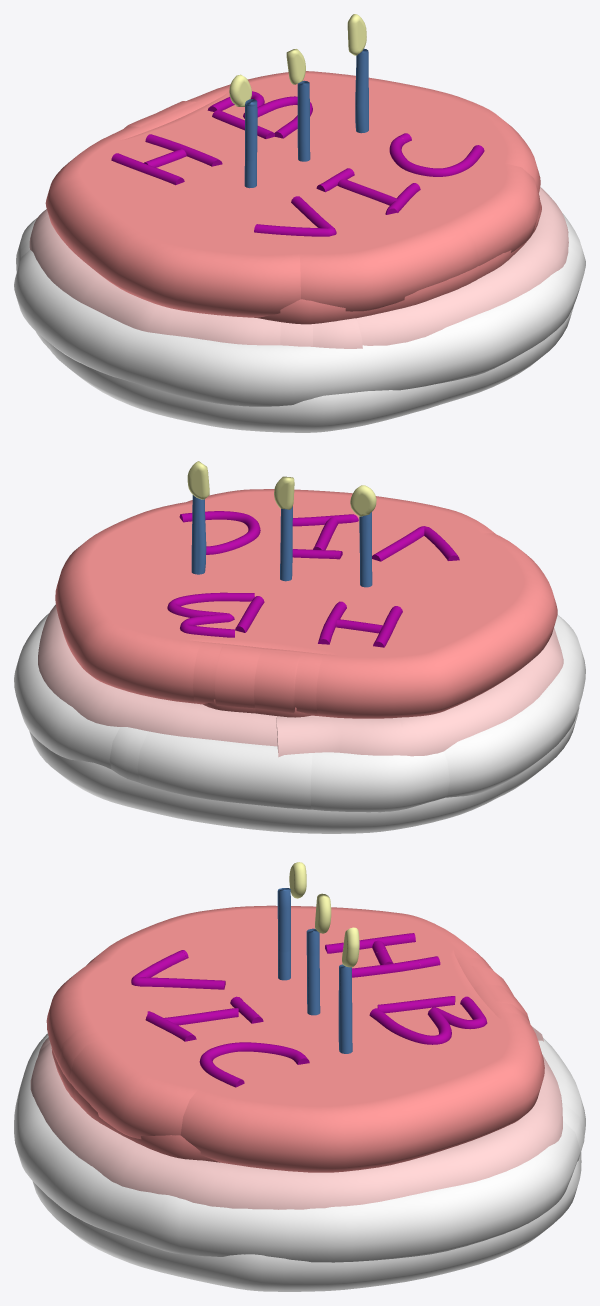
3 views of the same model, one above another, from view 1: azimuth 30°, elevation 25°; view 2: azimuth 150°, elevation 25°; view 3: azimuth 270°, elevation 25° (orthographic). The views are drawn at different scales.
Visible parts, largest first — view 1: Object_6, Object_11, Object_2, Object_12, Object_9, Object_5, Object_7, Object_10, Object_8; view 2: Object_6, Object_11, Object_2, Object_12, Object_9, Object_10, Object_7, Object_8, Object_4; view 3: Object_6, Object_11, Object_2, Object_12, Object_9, Object_10, Object_7, Object_5, Object_8.
Boxes of the visible parts, bbox=[...] form: Object_6: bbox=[45, 71, 540, 317]; Object_11: bbox=[14, 213, 585, 406]; Object_2: bbox=[29, 187, 568, 348]; Object_12: bbox=[36, 306, 573, 432]; Object_9: bbox=[111, 110, 420, 236]; Object_5: bbox=[254, 202, 541, 324]; Object_7: bbox=[244, 48, 368, 188]; Object_10: bbox=[207, 91, 484, 176]; Object_8: bbox=[229, 14, 366, 106]; Object_6: bbox=[55, 489, 557, 718]; Object_11: bbox=[14, 613, 585, 812]; Object_2: bbox=[38, 604, 563, 757]; Object_12: bbox=[29, 707, 579, 833]; Object_9: bbox=[235, 514, 459, 647]; Object_10: bbox=[167, 511, 260, 637]; Object_7: bbox=[191, 495, 372, 587]; Object_8: bbox=[187, 461, 376, 516]; Object_4: bbox=[203, 699, 311, 717]; Object_6: bbox=[46, 905, 544, 1172]; Object_11: bbox=[14, 1033, 585, 1262]; Object_2: bbox=[30, 1026, 562, 1209]; Object_12: bbox=[32, 1152, 581, 1291]; Object_9: bbox=[131, 933, 455, 1041]; Object_10: bbox=[199, 996, 487, 1087]; Object_7: bbox=[277, 888, 352, 1053]; Object_5: bbox=[51, 1048, 219, 1162]; Object_8: bbox=[289, 862, 359, 967].
Size of the model in its own units: 7.58 by 4 by 7.1.
